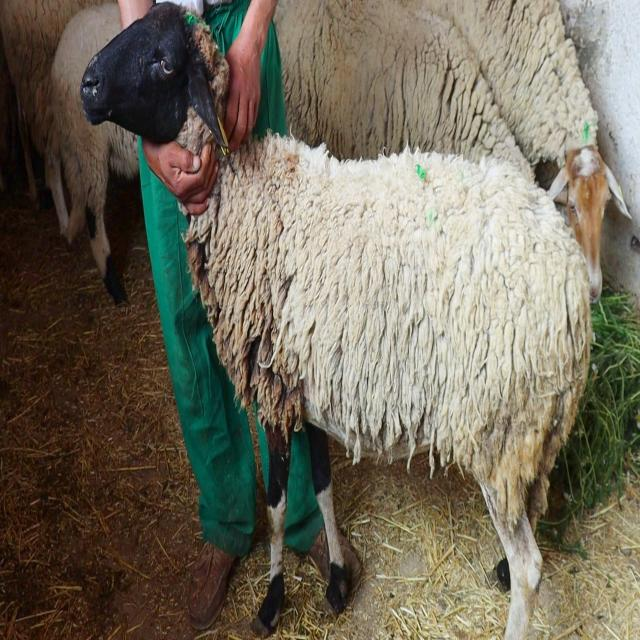Score_2: (81, 4, 629, 639)
